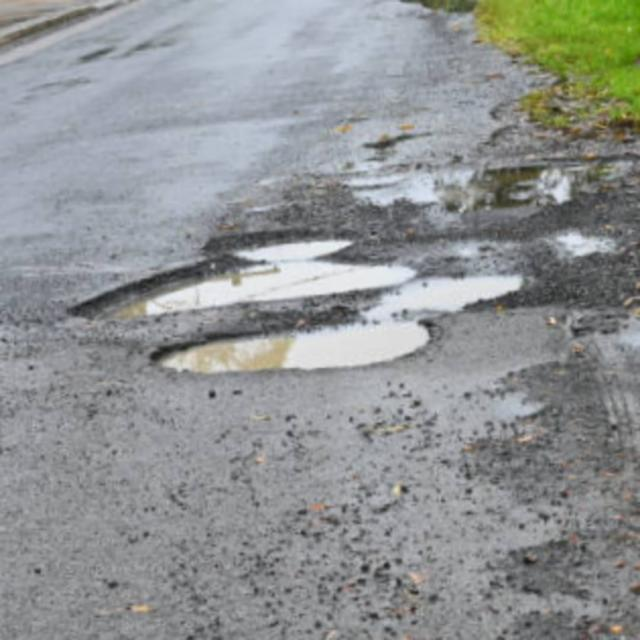pothole: (50, 216, 617, 424), (322, 120, 640, 254), (68, 38, 165, 64)
